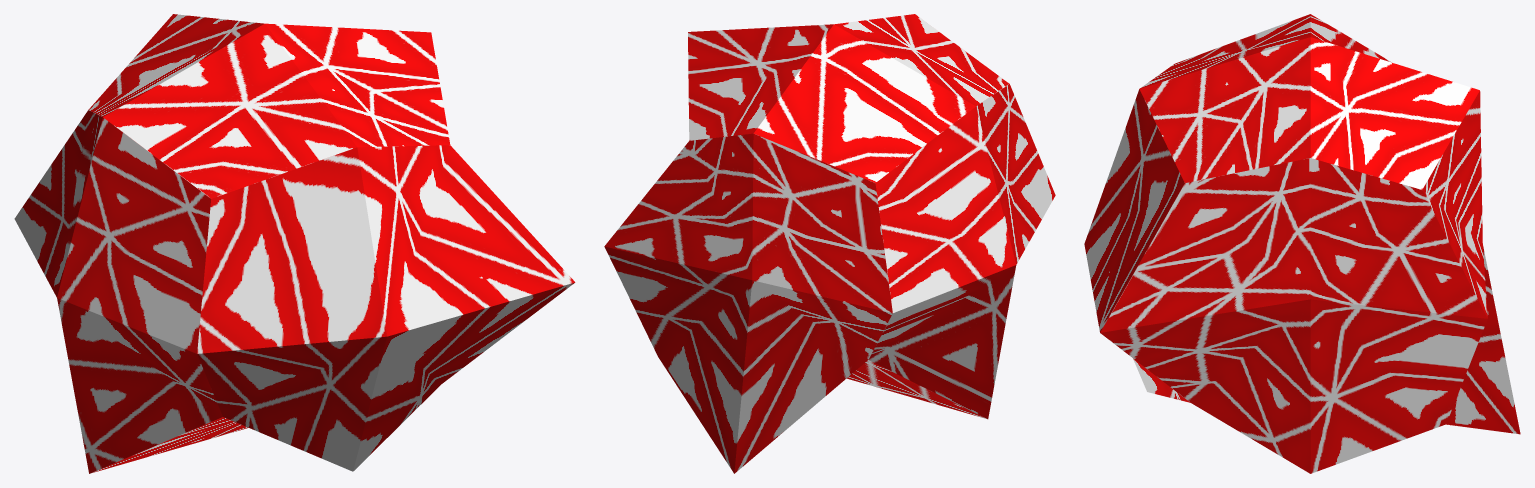
The model's file is W2Enemy.fbx.
3 views of the same model, side by side, from view 1: azimuth 30°, elevation 25°; view 2: azimuth 150°, elevation 25°; view 3: azimuth 270°, elevation 25° (orthographic). The views are drawn at different scales.
Visible parts, largest first — view 1: CubeEnemyW2; view 2: CubeEnemyW2; view 3: CubeEnemyW2.
Part boxes in pixels (x1,y1,x2,y2): CubeEnemyW2: (14, 14, 575, 473); CubeEnemyW2: (604, 14, 1055, 473); CubeEnemyW2: (1084, 14, 1520, 473).
Size of the model in its own units: 47.81 by 48.46 by 48.23.
